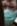with_mask: (1, 1, 17, 26)
